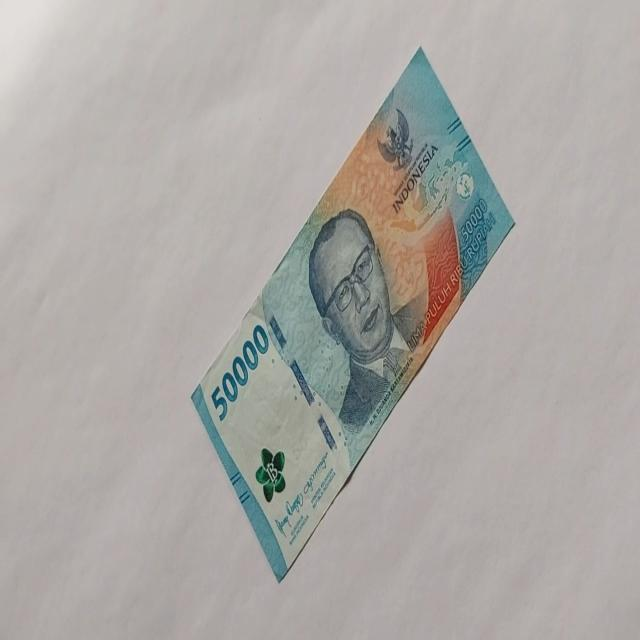lima puluh ribu rupiah: (189, 45, 516, 582), (306, 206, 422, 447), (209, 322, 269, 424)
